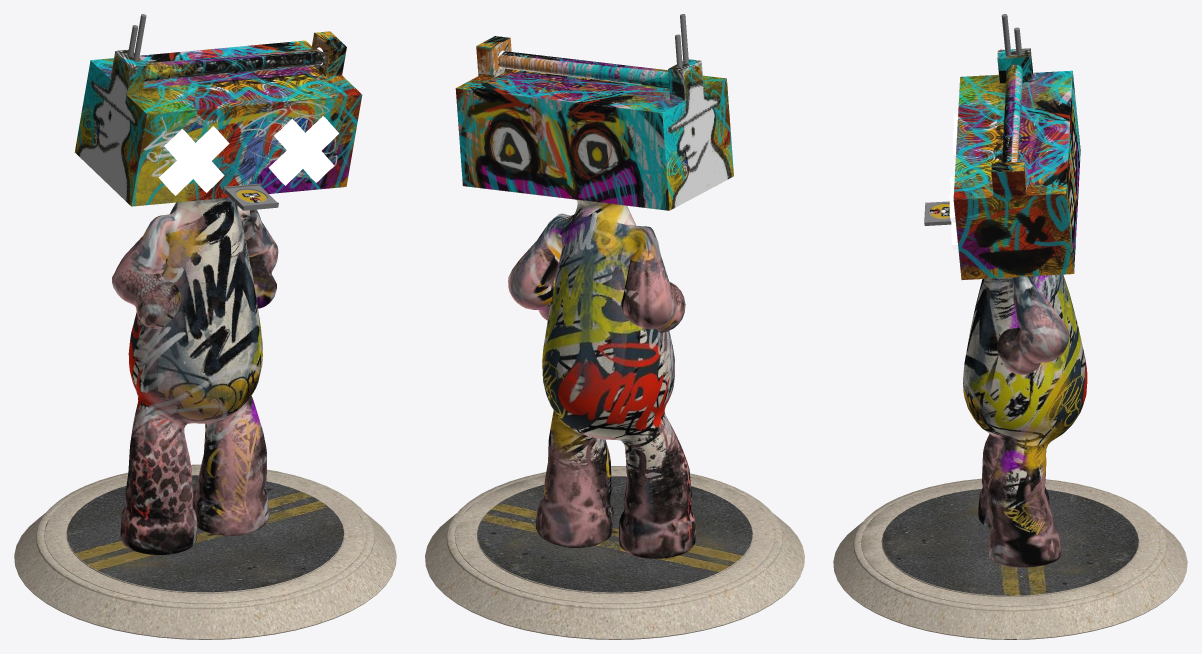
3 views of the same model, side by side, from view 1: azimuth 30°, elevation 25°; view 2: azimuth 150°, elevation 25°; view 3: azimuth 270°, elevation 25° (orthographic). The views are drawn at different scales.
Size of the model in its own units: 1.45 by 2.35 by 1.45.
9 materials, 5 textured.
